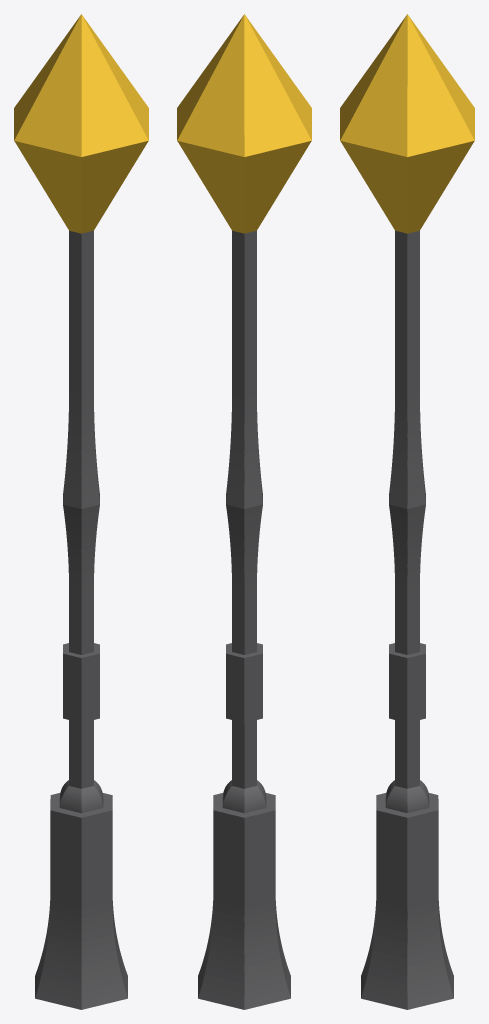
File: lampara.obj
3 views of the same model, side by side, from view 1: azimuth 30°, elevation 25°; view 2: azimuth 150°, elevation 25°; view 3: azimuth 330°, elevation 25° (orthographic).
Parts seen in each view (by area): view 1: Object001, Object002; view 2: Object001, Object002; view 3: Object001, Object002.
Part boxes in pixels (x1,y1,x2,y2): Object001: (35,230,127,1009); Object002: (14,14,148,233); Object001: (198,230,290,1009); Object002: (177,14,311,233); Object001: (361,230,453,1009); Object002: (340,14,474,233).
Size of the model in its own units: 1.68 by 11.58 by 1.45.
Materials: 2 (2 with a texture image).
